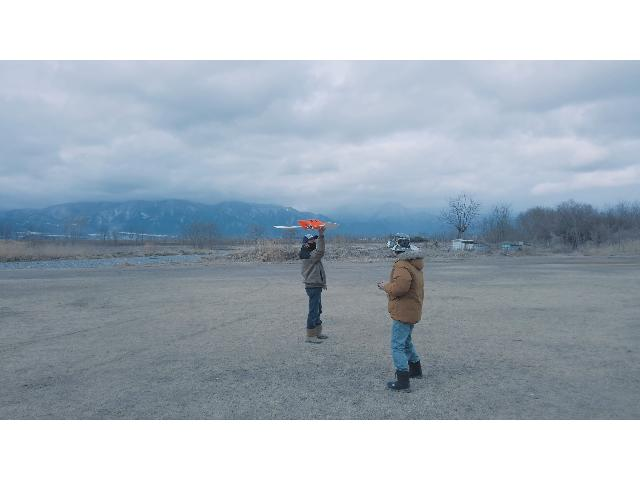Anti-Drone: (272, 217, 340, 231)
